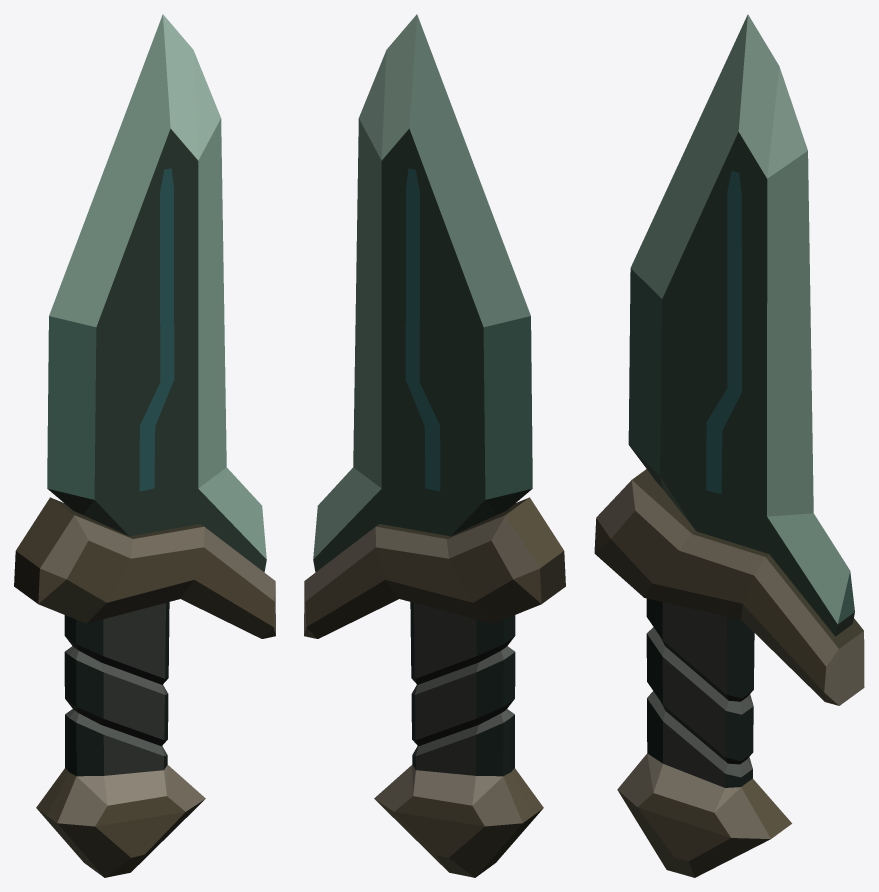
File: Knife_Neon_01.fbx
3 renders of one model, left to right at view 1: azimuth 30°, elevation 25°; view 2: azimuth 150°, elevation 25°; view 3: azimuth 330°, elevation 25°, orthographic. The views are drawn at different scales.
Parts seen in each view (by area): view 1: Knife_Neon_01; view 2: Knife_Neon_01; view 3: Knife_Neon_01.
Boxes of the visible parts, left/top/right/bottom form: Knife_Neon_01: left=14, top=14, right=275, bottom=877; Knife_Neon_01: left=304, top=14, right=565, bottom=877; Knife_Neon_01: left=594, top=14, right=864, bottom=877.
Size of the model in its own units: 0.107 by 0.3619 by 0.0305.
